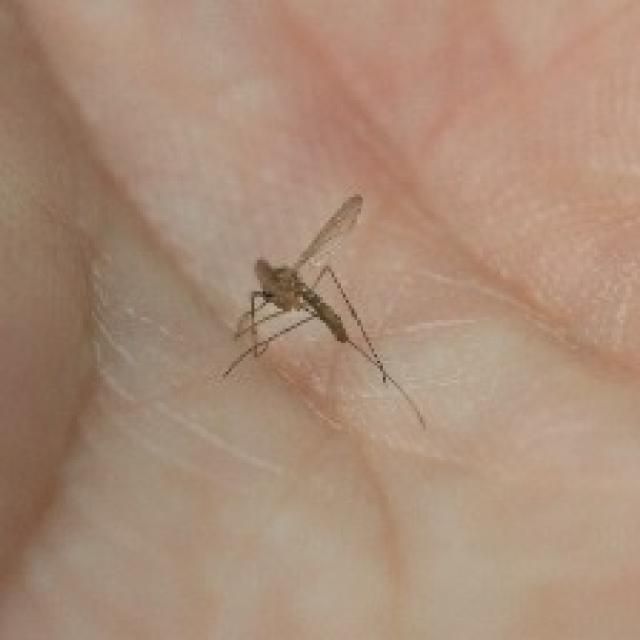culex: (220, 192, 426, 428)
